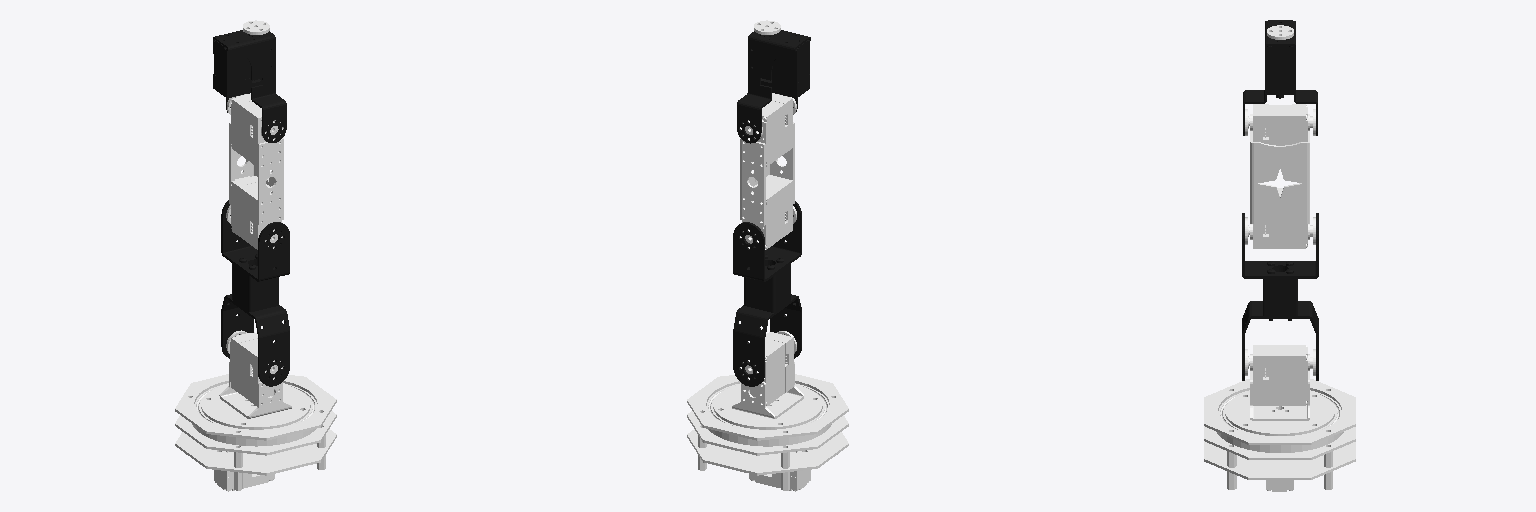
The robot description file, URDF, robot "robotic_arm":
<?xml version="1.0" encoding="utf-8"?>
<!-- This URDF was automatically created by SolidWorks to URDF Exporter! Originally created by Stephen Brawner (brawner@gmail.com) 
     Commit Version: 1.6.0-4-g7f85cfe  Build Version: 1.6.7995.38578
     For more information, please see http://wiki.ros.org/sw_urdf_exporter -->
<robot
  name="robotic_arm">
  <!-- <link name="world" />
  <joint name="fixed_to_world" type="fixed">
    <parent link="world" />
    <child link="base_link" />
    <origin xyz="0 0 0.3" rpy="0 0 0" />
  </joint> -->

  
  <link
    name="base_link">
    <inertial>
      <origin
        xyz="-0.00080493 -3.0749E-05 0.015733"
        rpy="0 0 0" />
      <mass
        value="0.34432" />
      <inertia
        ixx="0.00026968"
        ixy="-2.6656E-10"
        ixz="-8.0892E-08"
        iyy="0.00027222"
        iyz="-9.1152E-11"
        izz="0.00052932" />
    </inertial>
    <visual>
      <origin
        xyz="0 0 0"
        rpy="0 0 0" />
      <geometry>
        <mesh
          filename="package://robotic_arm/meshes/base_link.STL" />
      </geometry>
      <material
        name="">
        <color
          rgba="1 1 1 1" />
      </material>
    </visual>
    <!-- <collision>
      <origin
        xyz="0 0 0"
        rpy="0 0 0" />
      <geometry>
        <mesh
          filename="package://robotic_arm/meshes/base_link.STL" />
      </geometry>
    </collision> -->
  </link>
  <link
    name="link_1">
    <inertial>
      <origin
        xyz="-2.0847E-05 0.00014678 0.016563"
        rpy="0 0 0" />
      <mass
        value="0.057604" />
      <inertia
        ixx="1.8263E-05"
        ixy="-3.807E-10"
        ixz="-1.4763E-10"
        iyy="1.3985E-05"
        iyz="-2.922E-08"
        izz="2.307E-05" />
    </inertial>
    <visual>
      <origin
        xyz="0 0 0"
        rpy="0 0 0" />
      <geometry>
        <mesh
          filename="package://robotic_arm/meshes/link_1.STL" />
      </geometry>
      <material
        name="">
        <color
          rgba="1 1 1 1" />
      </material>
    </visual>
    <!-- <collision>
      <origin
        xyz="0 0 0"
        rpy="0 0 0" />
      <geometry>
        <mesh
          filename="package://robotic_arm/meshes/link_1.STL" />
      </geometry>
    </collision> -->
  </link>
  <joint
    name="joint_1"
    type="revolute">
    <origin
      xyz="0 0 0.03"
      rpy="0 0 0" />
    <parent
      link="base_link" />
    <child
      link="link_1" />
    <axis
      xyz="0 0 -1" />
    <limit
      lower="-2.36"
      upper="2.36"
      effort="10"
      velocity="1.5" />
    <dynamics damping="0.05" friction="0.01"/> 
  </joint>
  <link
    name="link_2">
    <inertial>
      <origin
        xyz="0.056726 -3.9302E-14 -0.00027136"
        rpy="0 0 0" />
      <mass
        value="0.039095" />
      <inertia
        ixx="1.0114E-05"
        ixy="7.2762E-21"
        ixz="2.0973E-19"
        iyy="1.4176E-05"
        iyz="3.677E-21"
        izz="7.7479E-06" />
    </inertial>
    <visual>
      <origin
        xyz="0 0 0"
        rpy="0 0 0" />
      <geometry>
        <mesh
          filename="package://robotic_arm/meshes/link_2.STL" />
      </geometry>
      <material
        name="">
        <color
          rgba="0.14902 0.14902 0.14902 1" />
      </material>
    </visual>
    <!-- <collision>
      <origin
        xyz="0 0 0"
        rpy="0 0 0" />
      <geometry>
        <mesh
          filename="package://robotic_arm/meshes/link_2.STL" />
      </geometry>
    </collision> -->
  </link>
  <joint
    name="joint_2"
    type="revolute">
    <origin
      xyz="0.00011279 0 0.038401"
      rpy="1.5708 -1.5708 0" />
    <parent
      link="link_1" />
    <child
      link="link_2" />
    <axis
      xyz="0 0 1" />
    <limit
      lower="-2.36"
      upper="2.36"
      effort="10"
      velocity="1.5" />
    <dynamics damping="0.05" friction="0.01"/> 
  </joint>
  <link
    name="link_3">
    <inertial>
      <origin
        xyz="0.043581 -0.00087218 -0.00024348"
        rpy="0 0 0" />
      <mass
        value="0.075843" />
      <inertia
        ixx="1.4302E-05"
        ixy="2.9527E-10"
        ixz="-1.407E-12"
        iyy="2.3711E-05"
        iyz="-4.2397E-20"
        izz="1.4547E-05" />
    </inertial>
    <visual>
      <origin
        xyz="0 0 0"
        rpy="0 0 0" />
      <geometry>
        <mesh
          filename="package://robotic_arm/meshes/link_3.STL" />
      </geometry>
      <material
        name="">
        <color
          rgba="1 1 1 1" />
      </material>
    </visual>
    <!-- <collision>
      <origin
        xyz="0 0 0"
        rpy="0 0 0" />
      <geometry>
        <mesh
          filename="package://robotic_arm/meshes/link_3.STL" />
      </geometry>
    </collision> -->
  </link>
  <joint
    name="joint_3"
    type="revolute">
    <origin
      xyz="0.10507 0 0"
      rpy="0 0 0" />
    <parent
      link="link_2" />
    <child
      link="link_3" />
    <axis
      xyz="0 0 1" />
    <limit
      lower="-2.36"
      upper="2.36"
      effort="10"
      velocity="1.5" />
    <dynamics damping="0.05" friction="0.01"/> 
  </joint>
  <link
    name="link_4">
    <inertial>
      <origin
        xyz="0.044666 0.0090624 0.00012944"
        rpy="0 0 0" />
      <mass
        value="0.038113" />
      <inertia
        ixx="7.4825E-06"
        ixy="-5.112E-07"
        ixz="3.807E-10"
        iyy="1.0505E-05"
        iyz="-1.4763E-10"
        izz="1.2542E-05" />
    </inertial>
    <visual>
      <origin
        xyz="0 0 0"
        rpy="0 0 0" />
      <geometry>
        <mesh
          filename="package://robotic_arm/meshes/link_4.STL" />
      </geometry>
      <material
        name="">
        <color
          rgba="0.14902 0.14902 0.14902 1" />
      </material>
    </visual>
    <!-- <collision>
      <origin
        xyz="0 0 0"
        rpy="0 0 0" />
      <geometry>
        <mesh
          filename="package://robotic_arm/meshes/link_4.STL" />
      </geometry>
    </collision> -->
  </link>
  <joint
    name="joint_4"
    type="revolute">
    <origin
      xyz="0.087162 -0.00031113 -0.00027136"
      rpy="0 0 0" />
    <parent
      link="link_3" />
    <child
      link="link_4" />
    <axis
      xyz="0 0 1" />
    <limit
      lower="-2.36"
      upper="2.36"
      effort="10"
      velocity="1.5" />
    <dynamics damping="0.05" friction="0.01"/> 
  </joint>
  <link
    name="link_5">
    <inertial>
      <origin
        xyz="-8.2823E-14 0 -0.0014527"
        rpy="0 0 0" />
      <mass
        value="0.01" />
      <inertia
        ixx="1.9014E-08"
        ixy="-9.2928E-25"
        ixz="3.0708E-24"
        iyy="1.9014E-08"
        iyz="1.5073E-23"
        izz="3.6585E-08" />
    </inertial>
    <visual>
      <origin
        xyz="0 0 0"
        rpy="0 0 0" />
      <geometry>
        <mesh
          filename="package://robotic_arm/meshes/link_5.STL" />
      </geometry>
      <material
        name="">
        <color
          rgba="1 1 1 1" />
      </material>
    </visual>
    <!-- <collision>
      <origin
        xyz="0 0 0"
        rpy="0 0 0" />
      <geometry>
        <mesh
          filename="package://robotic_arm/meshes/link_5.STL" />
      </geometry>
    </collision> -->
  </link>
  <joint
    name="joint_5"
    type="revolute">
    <origin
      xyz="0.073 0 0"
      rpy="-1.5708 0 -1.5708" />
    <parent
      link="link_4" />
    <child
      link="link_5" />
    <axis
      xyz="0 0 -1" />
    <limit
      lower="-2.36"
      upper="2.36"
      effort="10"
      velocity="1.5" />
    <dynamics damping="0.05" friction="0.01"/> 
  </joint>

  <link name="tool0"/>
  
  <joint name="flange_to_tool0" type="fixed">
    <parent link="link_5"/>
    <child link="tool0"/>
    <!-- 这里的 xyz 设置为 0，意味着 tool0 原点与 link_5 重合 -->
    <!-- 如果你的法兰盘表面距离原点有几毫米，可以修改 xyz 比如 "0 0 0.01" -->
    <origin xyz="0 0 0" rpy="0 0 0"/> 
  </joint>

  <!-- <transmission name="trans_joint_1">
    <type>transmission_interface/SimpleTransmission</type>
    <joint name="joint_1">
      <hardwareInterface>hardware_interface/PositionJointInterface</hardwareInterface>
    </joint>
    <actuator name="motor_joint_1">
      <hardwareInterface>hardware_interface/PositionJointInterface</hardwareInterface>
      <mechanicalReduction>1</mechanicalReduction>
    </actuator>
  </transmission>
  <transmission name="trans_joint_2">
    <type>transmission_interface/SimpleTransmission</type>
    <joint name="joint_2">
      <hardwareInterface>hardware_interface/PositionJointInterface</hardwareInterface>
    </joint>
    <actuator name="motor_joint_2">
      <hardwareInterface>hardware_interface/PositionJointInterface</hardwareInterface>
      <mechanicalReduction>1</mechanicalReduction>
    </actuator>
  </transmission>
  <transmission name="trans_joint_3">
    <type>transmission_interface/SimpleTransmission</type>
    <joint name="joint_3">
      <hardwareInterface>hardware_interface/PositionJointInterface</hardwareInterface>
    </joint>
    <actuator name="motor_joint_3">
      <hardwareInterface>hardware_interface/PositionJointInterface</hardwareInterface>
      <mechanicalReduction>1</mechanicalReduction>
    </actuator>
  </transmission>
  <transmission name="trans_joint_4">
    <type>transmission_interface/SimpleTransmission</type>
    <joint name="joint_4">
      <hardwareInterface>hardware_interface/PositionJointInterface</hardwareInterface>
    </joint>
    <actuator name="motor_joint_4">
      <hardwareInterface>hardware_interface/PositionJointInterface</hardwareInterface>
      <mechanicalReduction>1</mechanicalReduction>
    </actuator>
  </transmission>
  <transmission name="trans_joint_5">
    <type>transmission_interface/SimpleTransmission</type>
    <joint name="joint_5">
      <hardwareInterface>hardware_interface/PositionJointInterface</hardwareInterface>
    </joint>
    <actuator name="motor_joint_5">
      <hardwareInterface>hardware_interface/PositionJointInterface</hardwareInterface>
      <mechanicalReduction>1</mechanicalReduction>
    </actuator>
  </transmission>
  <gazebo>
    <plugin name="gazebo_ros_control" filename="libgazebo_ros_control.so">
      <robotNamespace>/aerial_arm</robotNamespace> -->
      <!-- 如果以后机械臂发生诡异的抖动，可以取消下面这行的注释 -->
      <!-- <legacyModeNS>false</legacyModeNS> -->
    <!-- </plugin>
  </gazebo> -->
  <gazebo reference="base_link">
    <material>Gazebo/DarkGrey</material>
  </gazebo>
  <gazebo reference="link_1">
    <material>Gazebo/DarkGrey</material>
  </gazebo>
  <gazebo reference="link_2">
    <material>Gazebo/DarkGrey</material>
  </gazebo>
  <gazebo reference="link_3">
    <material>Gazebo/DarkGrey</material>
  </gazebo>
  <gazebo reference="link_4">
    <material>Gazebo/DarkGrey</material>
  </gazebo>
  <gazebo reference="link_5">
    <material>Gazebo/DarkGrey</material>
  </gazebo>
  <gazebo reference="joint_1">
    <implicitSpringDamper>true</implicitSpringDamper>
  </gazebo>
  <gazebo reference="joint_2">
    <implicitSpringDamper>true</implicitSpringDamper>
  </gazebo>
  <gazebo reference="joint_3">
    <implicitSpringDamper>true</implicitSpringDamper>
  </gazebo>
  <gazebo reference="joint_4">
    <implicitSpringDamper>true</implicitSpringDamper>
  </gazebo>
  <gazebo reference="joint_5">
    <implicitSpringDamper>true</implicitSpringDamper>
  </gazebo>
</robot>

--- What the picture shows (computed from the rendered views, not written in the file) ---
3 views of the same robot in one strip: view 1: azimuth 30°, elevation 25°; view 2: azimuth 150°, elevation 25°; view 3: azimuth 270°, elevation 25° (orthographic).
Model robotic_arm with 7 links and 6 joints (5 revolute, 1 fixed), rooted at base_link, posed every joint at zero.
Visible links, largest first — view 1: base_link, link_2, link_3, link_1, link_4; view 2: base_link, link_2, link_3, link_1, link_4; view 3: base_link, link_3, link_1, link_2, link_4.
Link boxes in pixels (x1,y1,x2,y2): base_link: (175,374,336,491); link_2: (221,200,289,386); link_3: (226,94,283,249); link_1: (201,330,310,429); link_4: (213,30,286,142); base_link: (687,374,848,491); link_2: (733,201,801,386); link_3: (740,93,796,249); link_1: (713,331,822,429); link_4: (737,30,810,143); base_link: (1204,379,1355,491); link_3: (1245,104,1315,248); link_1: (1225,345,1334,435); link_2: (1242,213,1318,380); link_4: (1243,20,1317,135).
Bounding box of the posed robot: 0.1101 × 0.1102 × 0.3636 m (x, y, z).
6 mesh visuals loaded from 6 distinct referenced files (6 binary STL).
